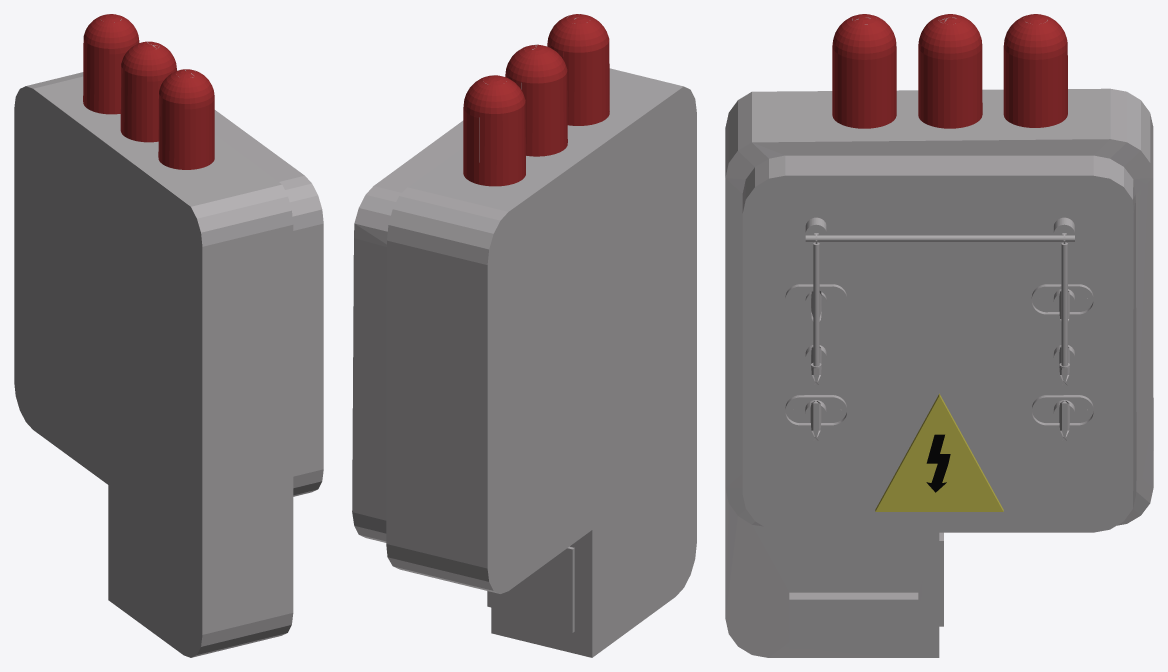
File: Mecanismo_Salida_Puerta.fbx
3 renders of one model, left to right at view 1: azimuth 30°, elevation 25°; view 2: azimuth 150°, elevation 25°; view 3: azimuth 270°, elevation 25°, orthographic. The views are drawn at different scales.
Visible parts, largest first — view 1: Cube; view 2: Cube; view 3: Cube.
Boxes of the visible parts, bbox=[...] form: Cube: bbox=[14, 14, 323, 657]; Cube: bbox=[352, 14, 696, 657]; Cube: bbox=[725, 14, 1153, 657].
Size of the model in its own units: 1.88 by 6.35 by 4.
